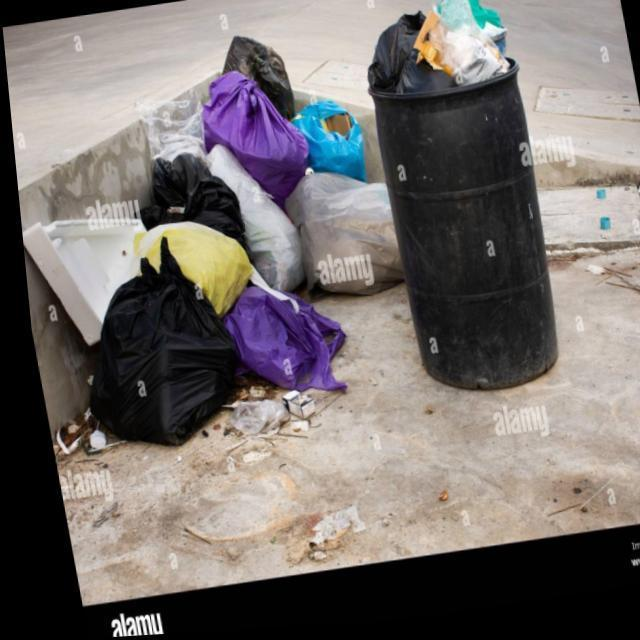Garbage: (18, 39, 397, 446), (365, 0, 507, 98)
Plastic_Bag: (81, 238, 229, 446), (200, 73, 305, 212), (280, 176, 397, 299), (203, 147, 299, 295), (215, 288, 338, 395), (127, 223, 247, 319), (136, 154, 242, 253), (365, 15, 453, 98), (288, 103, 362, 186), (221, 39, 292, 123), (133, 91, 202, 163), (430, 0, 479, 39), (465, 0, 501, 34)
Thermocol: (18, 208, 140, 345)
